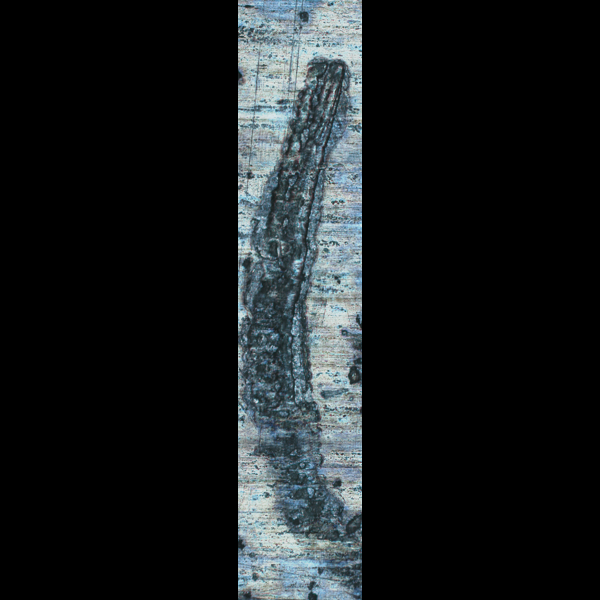d: (238, 50, 357, 588)
